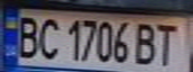0: (96, 18, 115, 63)
1: (60, 16, 81, 61)
6: (112, 19, 136, 65)
7: (78, 16, 96, 62)
B: (9, 12, 42, 60), (133, 19, 163, 66)
C: (33, 15, 63, 61)
T: (151, 19, 184, 67)
